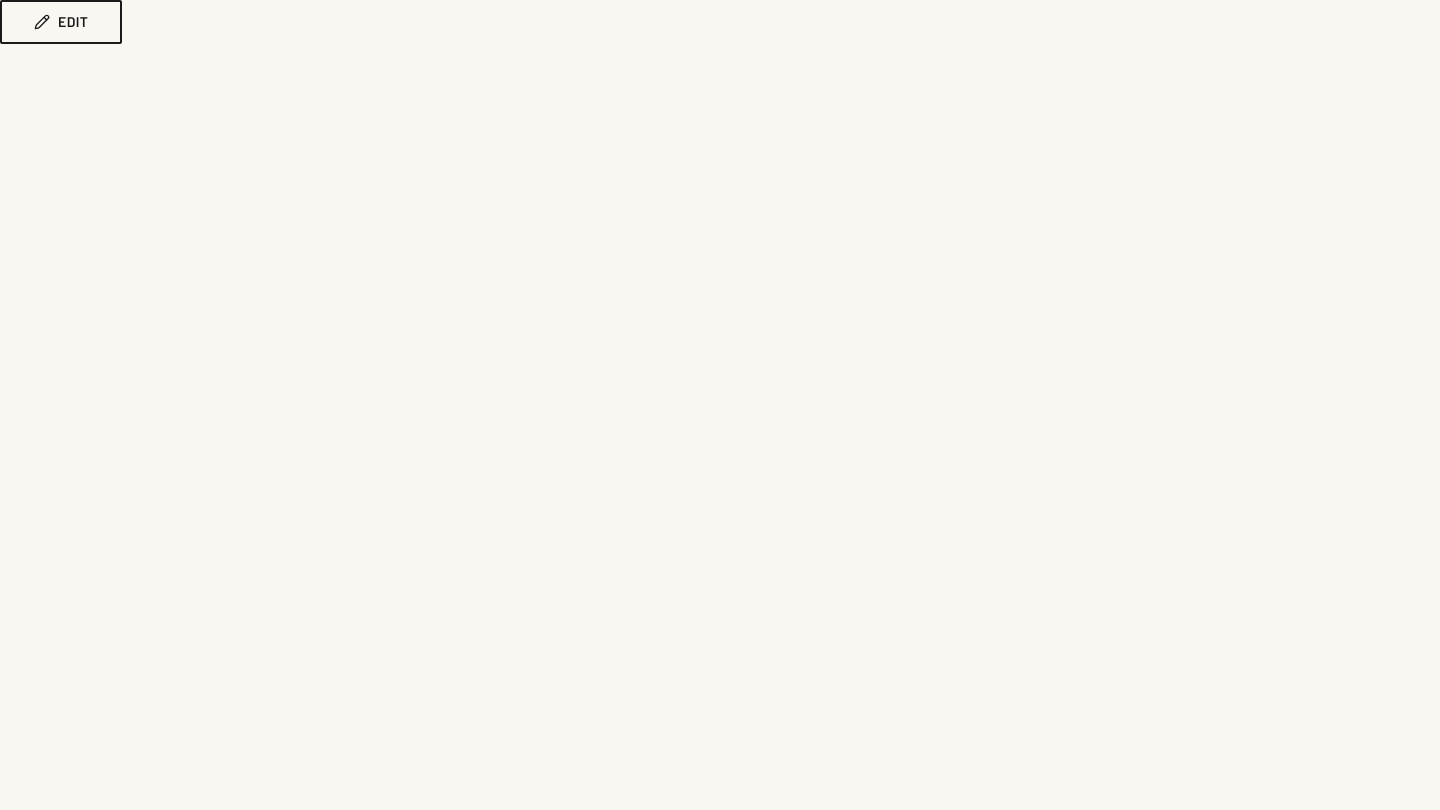
it: UserEditButton › Modal Interaction › opens UserFormModal when Edit button is clicked
Click the button with test id "edit-user-button".
click(61, 22)  # box top-left (0, 0), bottom-right (122, 44)
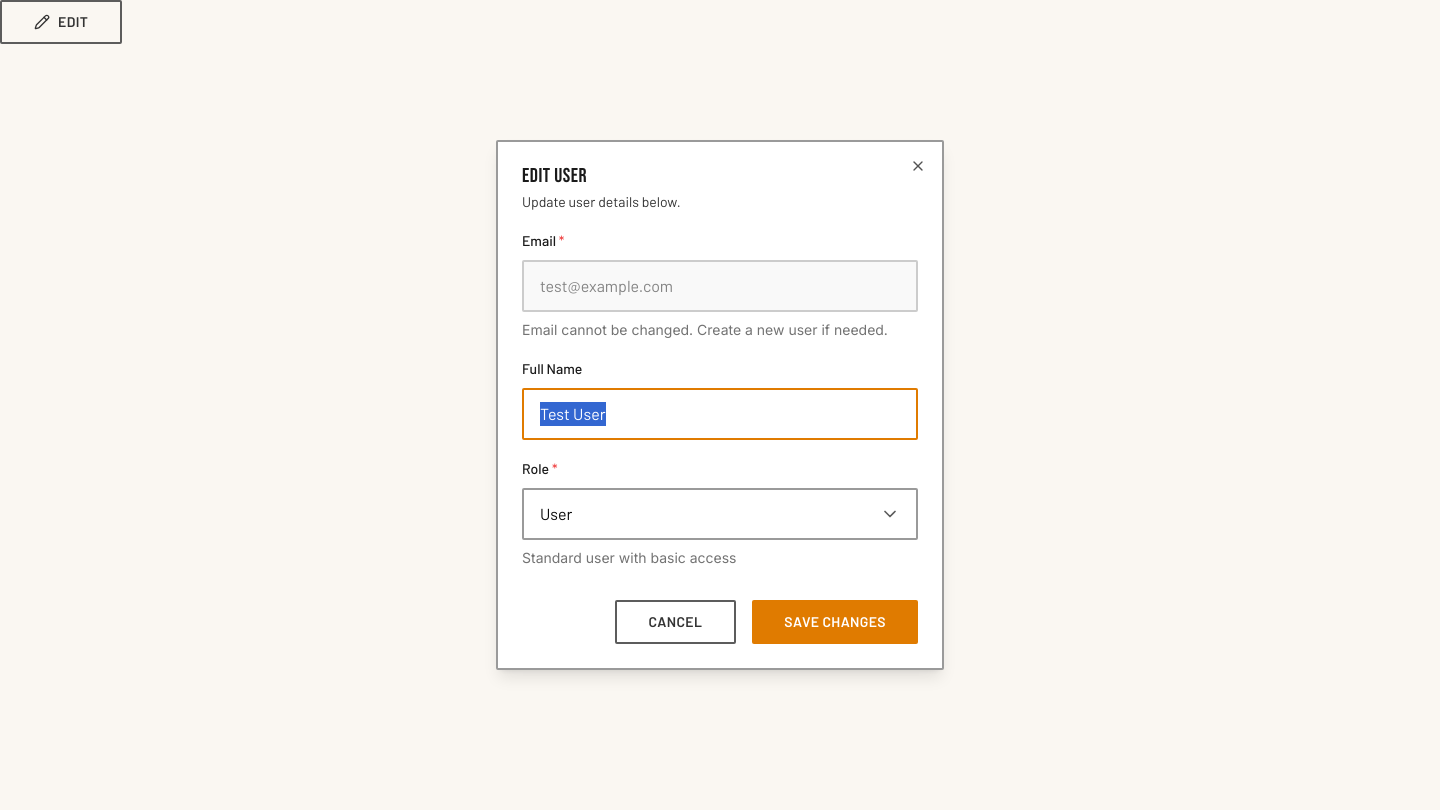
expect the dialog with test id "user-form-modal" is shown: met, box top-left (496, 140), bottom-right (944, 670)
